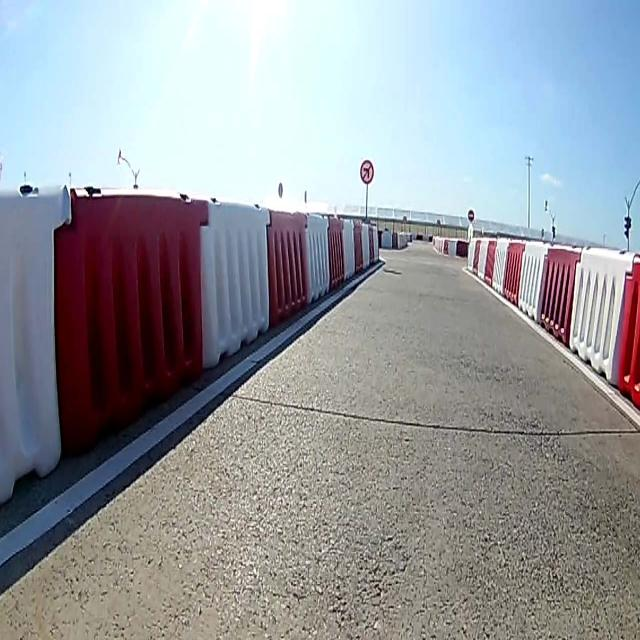soladonulmez: (358, 158, 376, 185)
